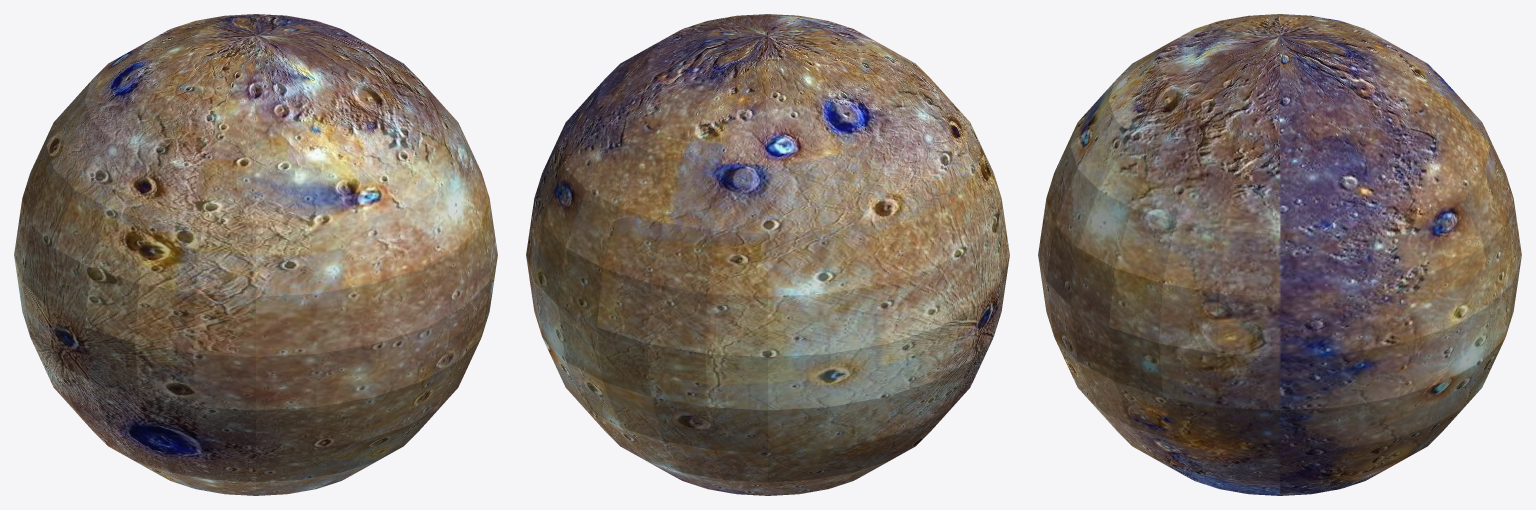
File: Mercurio.obj
3 views of the same model, side by side, from view 1: azimuth 30°, elevation 25°; view 2: azimuth 150°, elevation 25°; view 3: azimuth 270°, elevation 25° (orthographic).
Visible parts, largest first — view 1: polySurface9 polySurface8 polySurface6 polySurface4 polySurface2; view 2: polySurface9 polySurface8 polySurface6 polySurface4 polySurface2; view 3: polySurface9 polySurface8 polySurface6 polySurface4 polySurface2.
Part boxes in pixels (x1,y1,x2,y2): polySurface9 polySurface8 polySurface6 polySurface4 polySurface2: [14, 14, 497, 495]; polySurface9 polySurface8 polySurface6 polySurface4 polySurface2: [526, 14, 1009, 495]; polySurface9 polySurface8 polySurface6 polySurface4 polySurface2: [1038, 14, 1521, 495].
Bounding box in the file's own units: 0.6904 × 0.6904 × 0.6904.
1 material, 1 textured.
